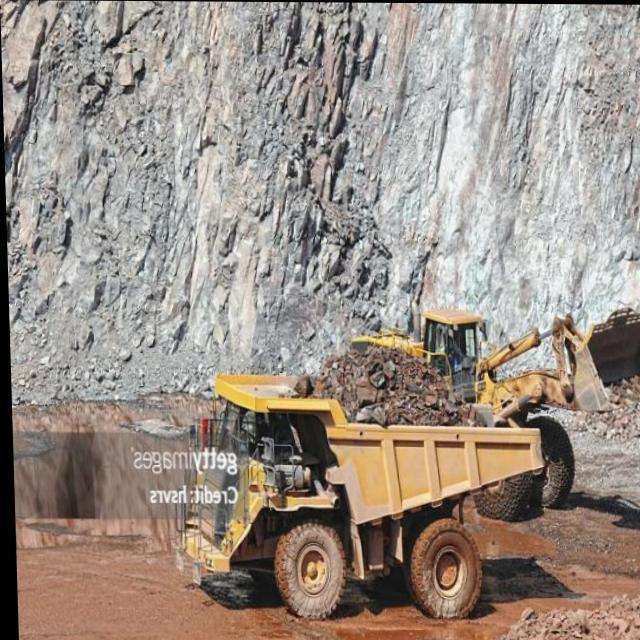covered: (250, 334, 508, 616)
